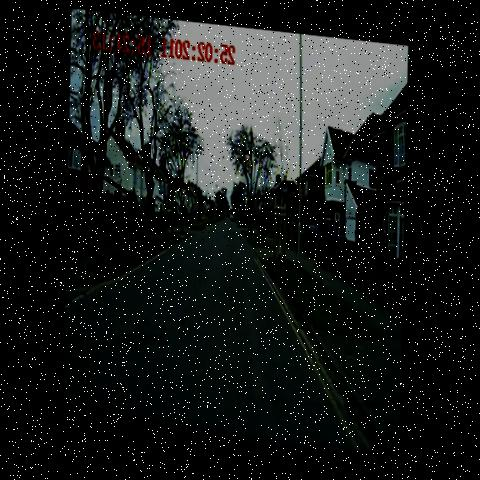pothole: (113, 297, 191, 367)
